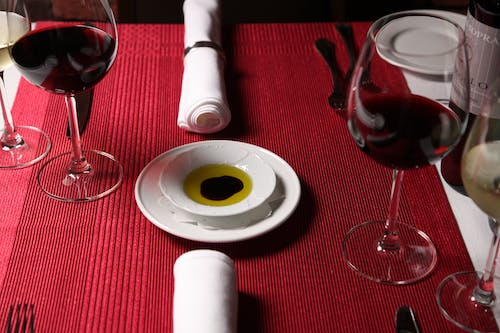alcohol: (339, 11, 472, 286), (6, 0, 124, 203), (435, 87, 500, 333), (439, 0, 500, 199), (0, 0, 52, 170)
knife: (394, 303, 421, 333)
